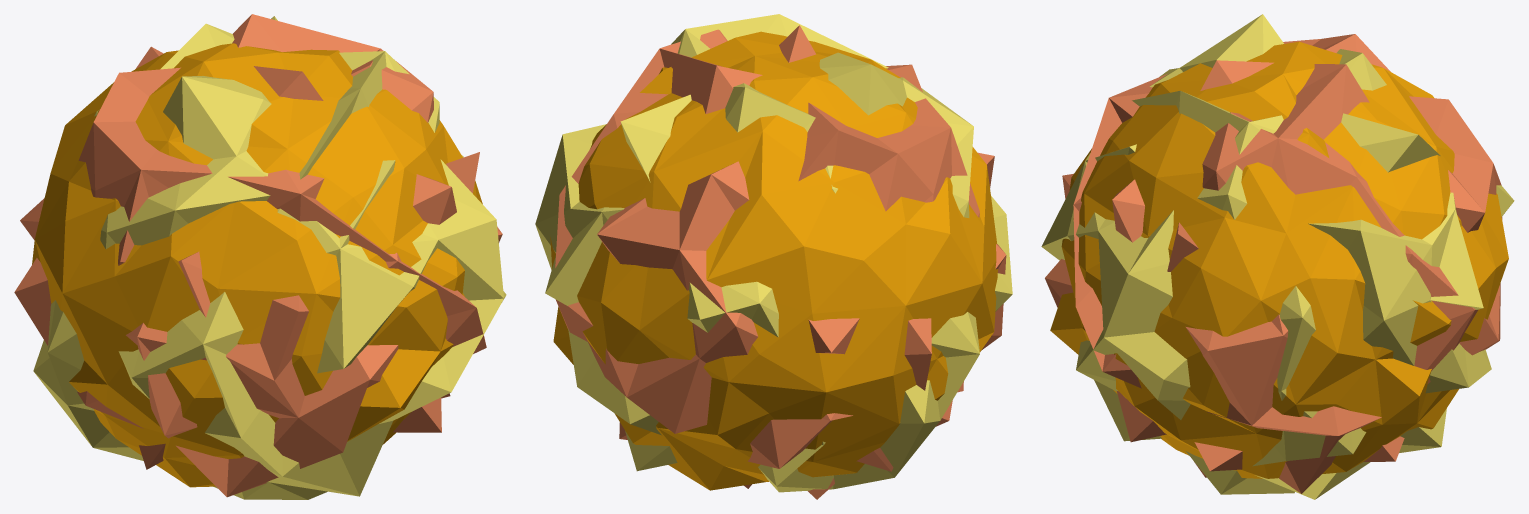
File: gas_planet3.fbx
3 renders of one model, left to right at view 1: azimuth 30°, elevation 25°; view 2: azimuth 150°, elevation 25°; view 3: azimuth 270°, elevation 25°, orthographic. The views are drawn at different scales.
Parts seen in each view (by area): view 1: gas_planet3; view 2: gas_planet3; view 3: gas_planet3.
Part boxes in pixels (left/top/right/bottom): gas_planet3: left=14, top=14, right=506, bottom=499; gas_planet3: left=535, top=14, right=1012, bottom=499; gas_planet3: left=1041, top=14, right=1514, bottom=499.
Size of the model in its own units: 199 by 196 by 200.
